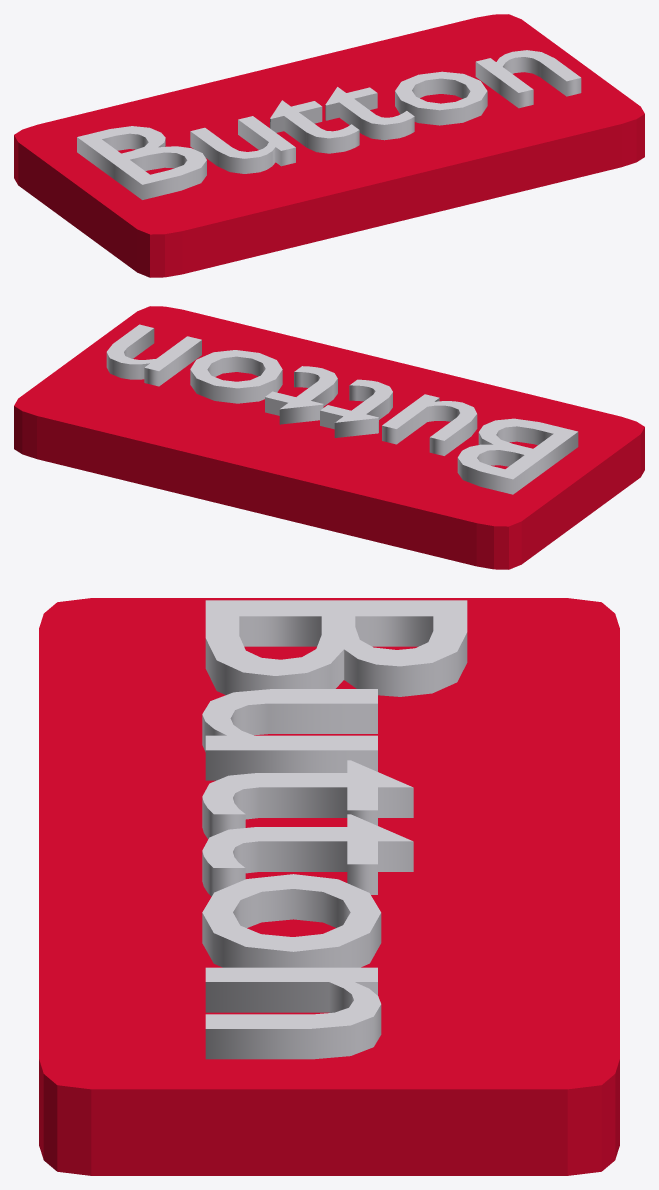
3 renders of one model, top to bottom at view 1: azimuth 30°, elevation 25°; view 2: azimuth 150°, elevation 25°; view 3: azimuth 270°, elevation 25°, orthographic. The views are drawn at different scales.
Parts seen in each view (by area): view 1: Plane, Text; view 2: Plane, Text; view 3: Plane, Text.
Boxes of the visible parts, bbox=[...] form: Plane: bbox=[14, 14, 644, 277]; Text: bbox=[77, 50, 581, 199]; Plane: bbox=[14, 306, 644, 569]; Text: bbox=[106, 324, 578, 494]; Plane: bbox=[39, 598, 619, 1175]; Text: bbox=[202, 600, 467, 1059].
Size of the model in its own units: 0.8954 by 0.0996 by 0.4477.
